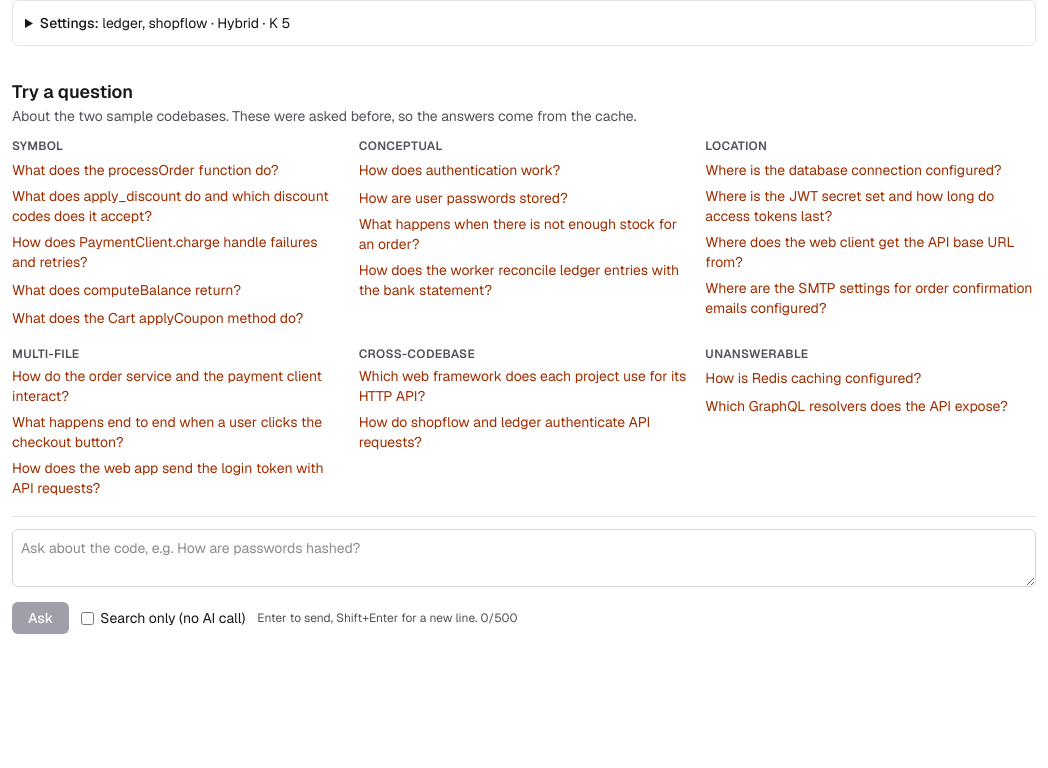
it: Ask page › shows hybrid_rerank as unavailable with the server's reason
The image size is (1048, 768).
What coordinates should you click on to do the following:
click the text "Settings:"
I would click on:
 (69, 23)
Its box is [40,14,99,32].
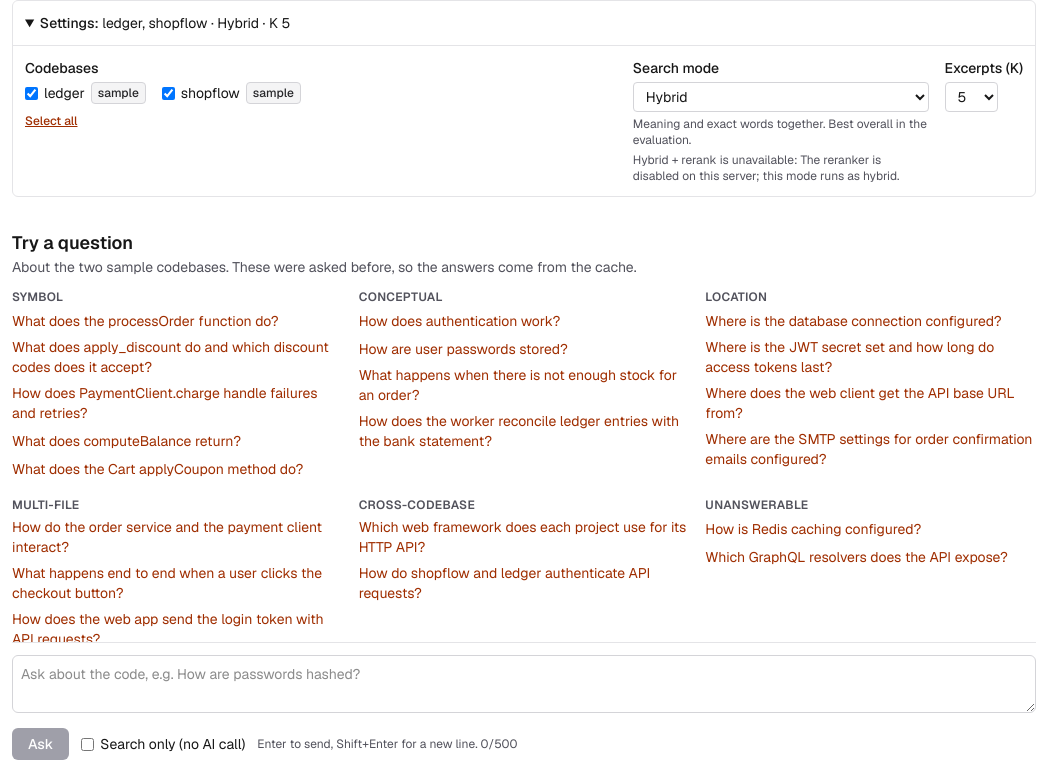
Result: the text "Hybrid + rerank is unavailable: The reranker is disabled" is shown at [633,152,929,184]
